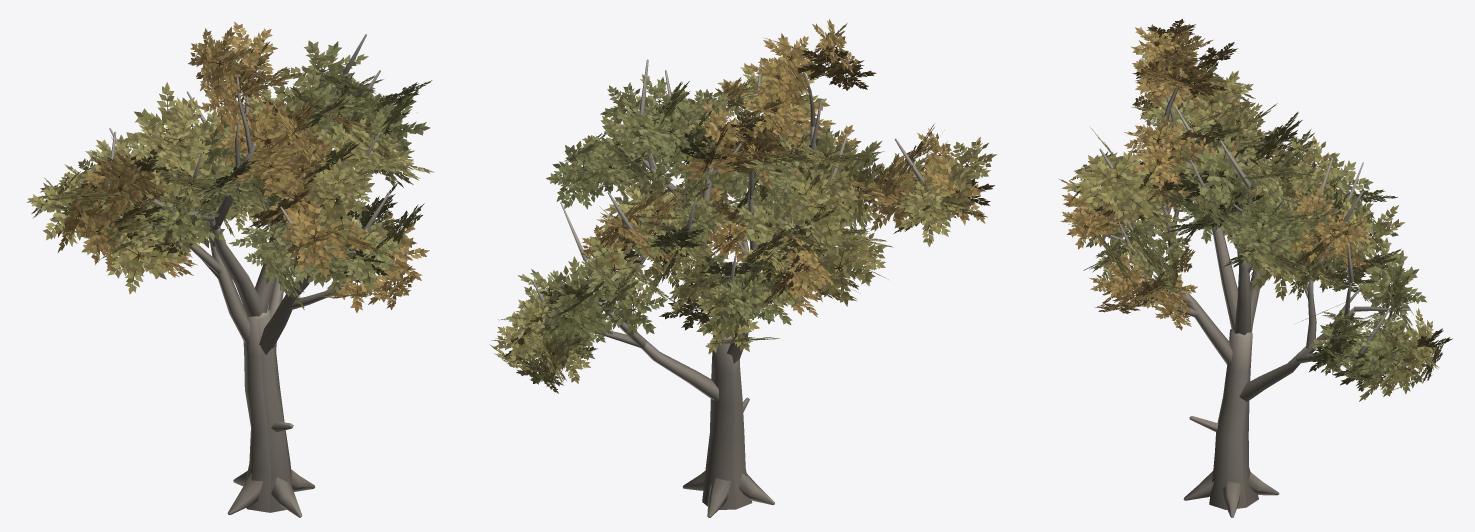
Rendered from tree_dry_a.glb.
The picture shows the model from 3 angles, left to right: view 1: azimuth 30°, elevation 25°; view 2: azimuth 150°, elevation 25°; view 3: azimuth 270°, elevation 25°; orthographic projection. The views are drawn at different scales.
Visible parts, largest first — view 1: tree_dry_a; view 2: tree_dry_a; view 3: tree_dry_a.
Boxes of the visible parts, x1,y1,x2,y2 form: tree_dry_a: (27, 21, 434, 517); tree_dry_a: (489, 19, 996, 517); tree_dry_a: (1059, 19, 1452, 517).
Bounding box in the file's own units: 7.72 × 8.57 × 7.01.
2 materials, 1 textured.
